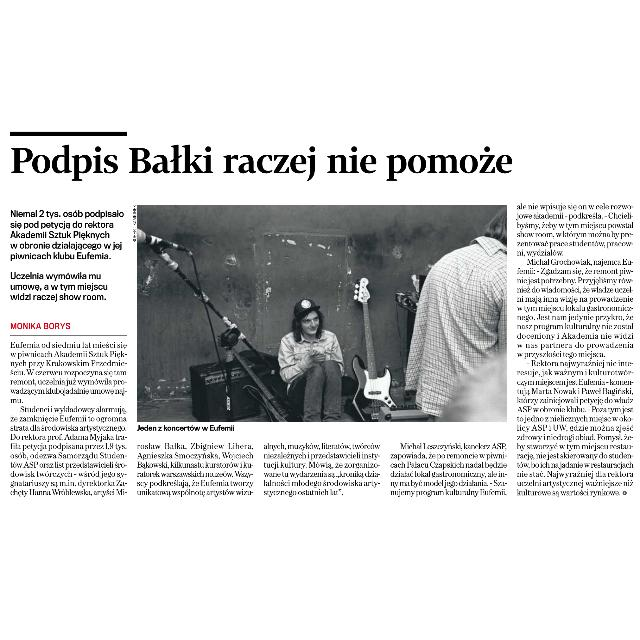author: (7, 319, 74, 333)
body: (514, 202, 640, 500), (8, 339, 130, 499), (261, 439, 384, 501), (134, 441, 256, 501), (388, 440, 510, 500)
caption: (134, 424, 240, 436)
image: (135, 203, 510, 425)
lead: (8, 206, 126, 304)
title: (7, 138, 517, 188)
